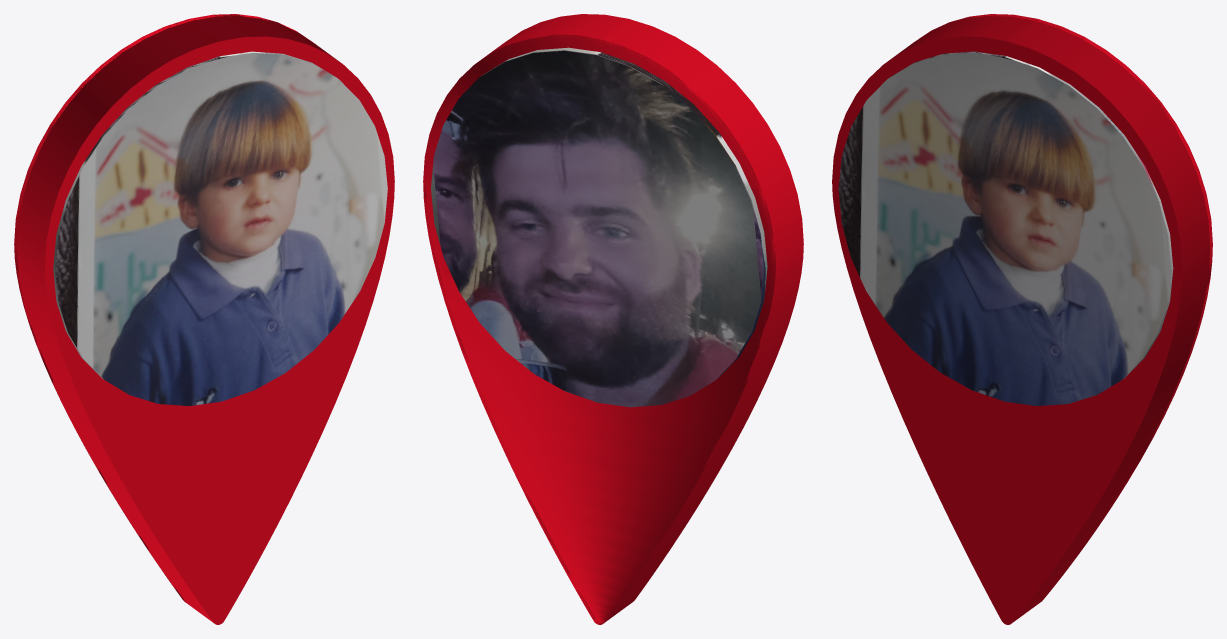
The model's file is xav.glb.
3 renders of one model, left to right at view 1: azimuth 30°, elevation 25°; view 2: azimuth 150°, elevation 25°; view 3: azimuth 330°, elevation 25°, orthographic.
Visible parts, largest first — view 1: Cylindre, Curve; view 2: Cylindre.001, Curve, Cylindre; view 3: Cylindre, Curve.
Part boxes in pixels (<box>): Cylindre: <box>53,51,387,405</box>; Curve: <box>14,14,394,624</box>; Cylindre.001: <box>431,50,763,407</box>; Curve: <box>423,14,803,624</box>; Cylindre: <box>482,47,767,379</box>; Cylindre: <box>838,51,1173,405</box>; Curve: <box>832,14,1212,624</box>.
Size of the model in its own units: 0.2766 by 0.4404 by 0.0476.
Materials: 3 (2 with a texture image).
